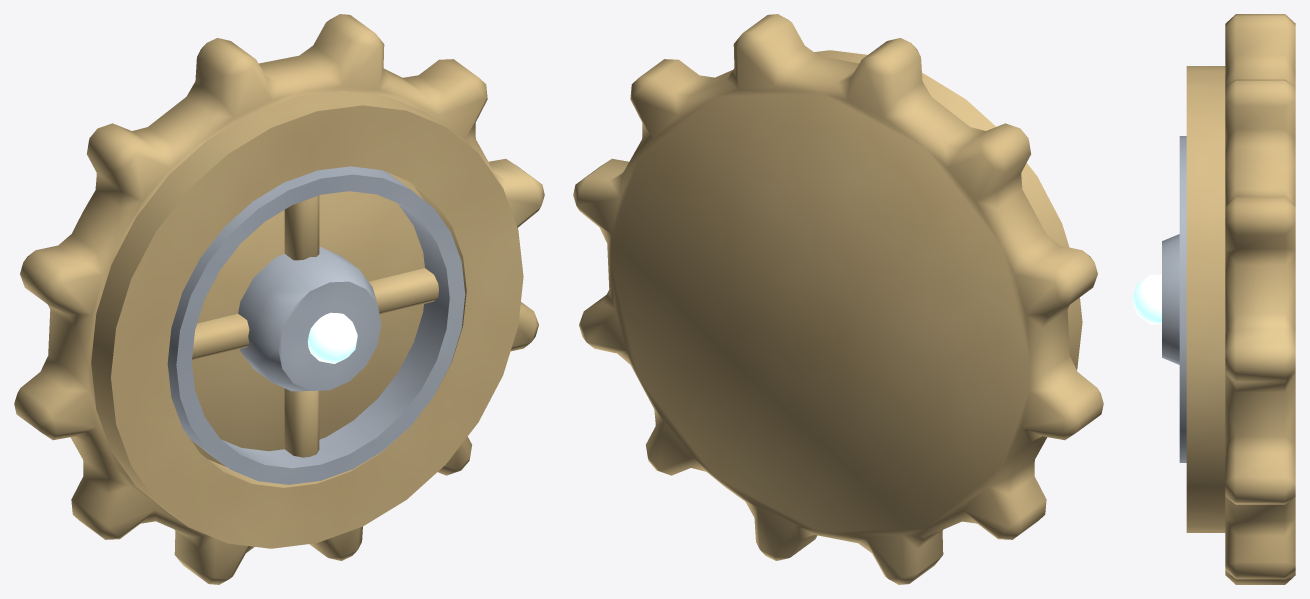
The model's file is gear_clockwork_small.gltf.
3 renders of one model, left to right at view 1: azimuth 30°, elevation 25°; view 2: azimuth 150°, elevation 25°; view 3: azimuth 270°, elevation 25°, orthographic. The views are drawn at different scales.
Parts seen in each view (by area): view 1: gear_clockwork_small; view 2: gear_clockwork_small; view 3: gear_clockwork_small.
Boxes of the visible parts, bbox=[...] form: gear_clockwork_small: bbox=[14, 14, 544, 584]; gear_clockwork_small: bbox=[573, 14, 1103, 584]; gear_clockwork_small: bbox=[1132, 14, 1295, 584].
Size of the model in its own units: 0.5684 by 0.5684 by 0.1626.
Materials: 1 (1 with a texture image).
